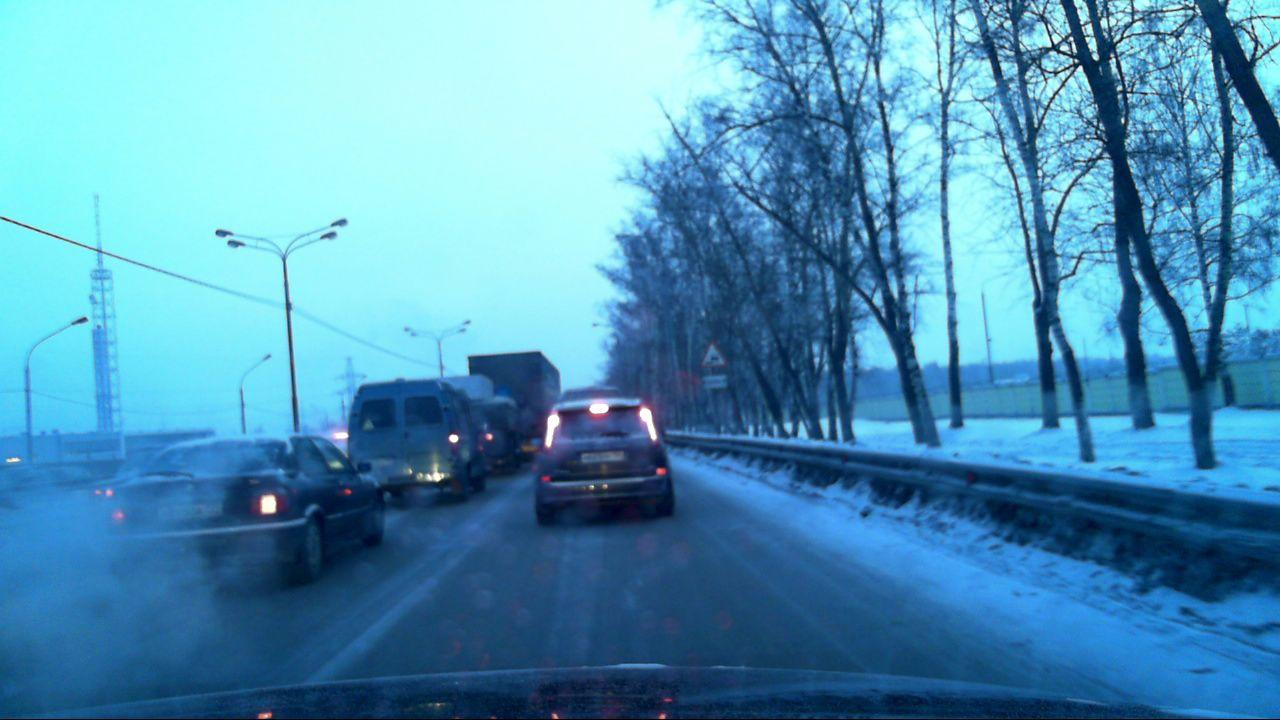1_19: (700, 343, 725, 368)
8_2_1: (701, 374, 729, 389)
